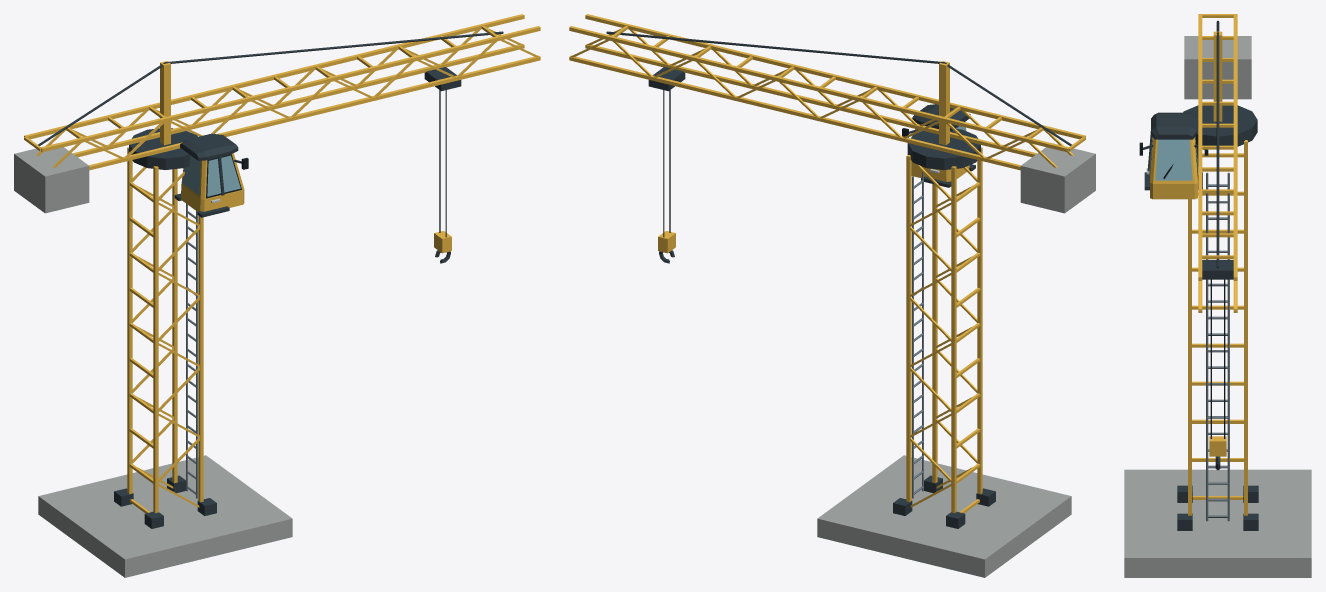
Rendered from b07_self_erecting_tower_crane.glb.
3 renders of one model, left to right at view 1: azimuth 30°, elevation 25°; view 2: azimuth 150°, elevation 25°; view 3: azimuth 270°, elevation 25°, orthographic. The views are drawn at different scales.
Parts seen in each view (by area): view 1: b07_self_erecting_tower_crane; view 2: b07_self_erecting_tower_crane; view 3: b07_self_erecting_tower_crane.
Boxes of the visible parts, x1,y1,x2,y2 form: b07_self_erecting_tower_crane: [14, 14, 540, 577]; b07_self_erecting_tower_crane: [569, 14, 1095, 577]; b07_self_erecting_tower_crane: [1124, 14, 1311, 577].
Size of the model in its own units: 11.39 by 10.04 by 3.4.
